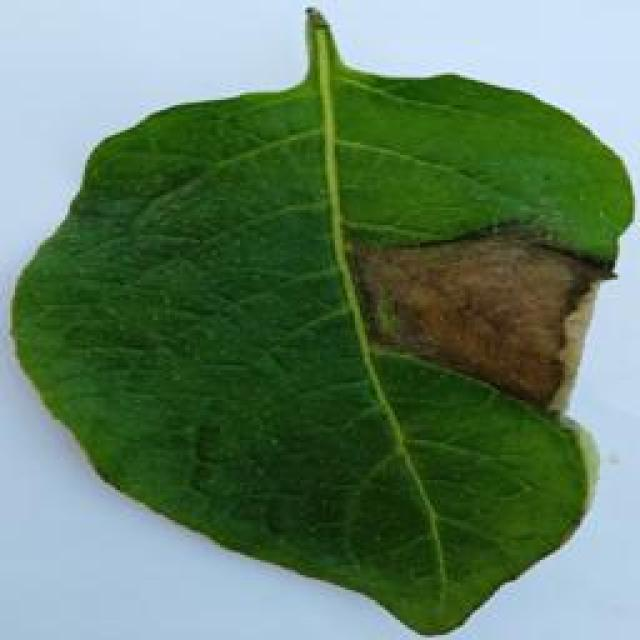Potato_Late_Blight: (7, 48, 634, 640)
